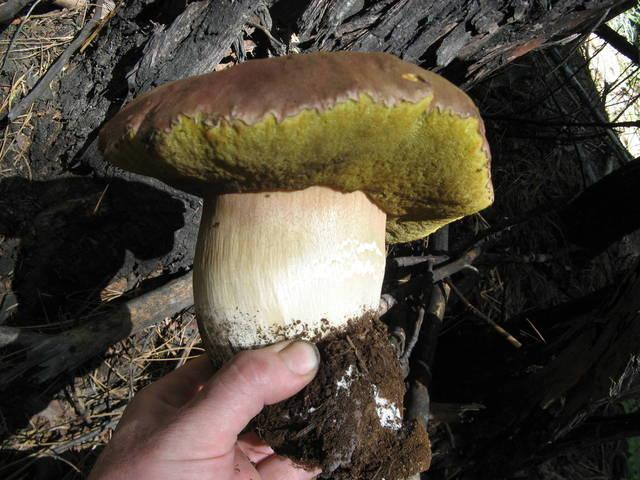edible_mushroom: (94, 44, 498, 480)
